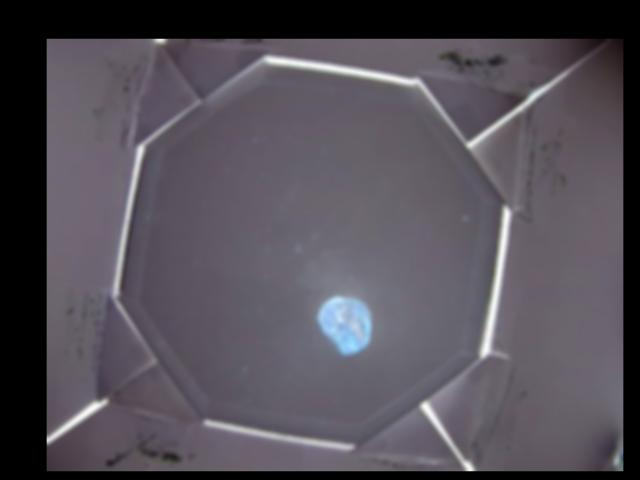Brisk: (318, 295, 372, 355)
